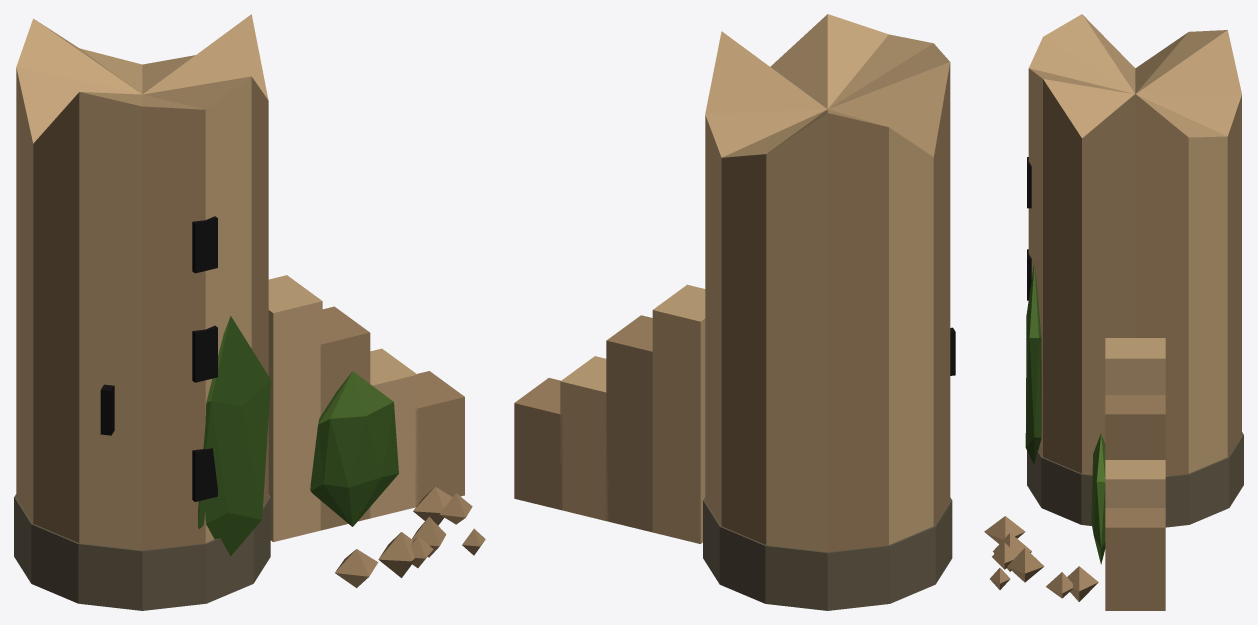
The model's file is fort_ruin.glb.
3 renders of one model, left to right at view 1: azimuth 30°, elevation 25°; view 2: azimuth 150°, elevation 25°; view 3: azimuth 270°, elevation 25°, orthographic. The views are drawn at different scales.
Visible parts, largest first — view 1: fort_ruin2; view 2: fort_ruin2; view 3: fort_ruin2.
Boxes of the visible parts, x1=… form: fort_ruin2: x1=14, y1=14, x2=485, y2=610; fort_ruin2: x1=514, y1=14, x2=955, y2=610; fort_ruin2: x1=984, y1=14, x2=1243, y2=610.
Size of the model in its own units: 5.69 by 6.91 by 3.64.
